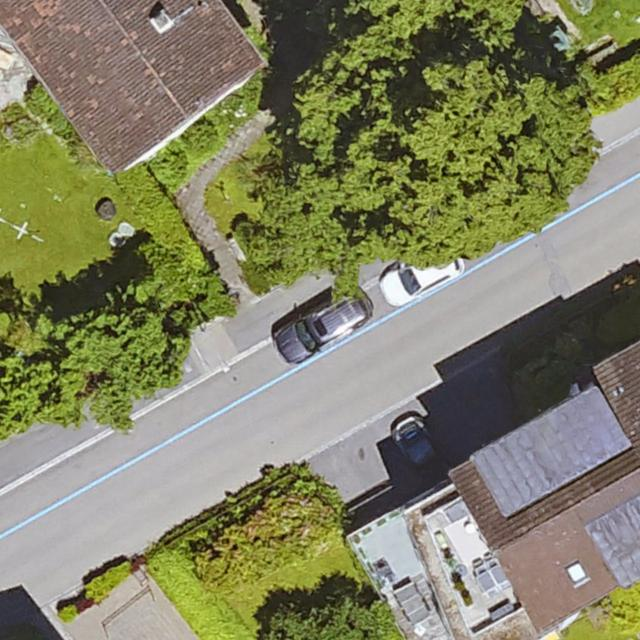tree: (292, 0, 600, 258), (52, 299, 180, 431), (260, 594, 408, 640)
